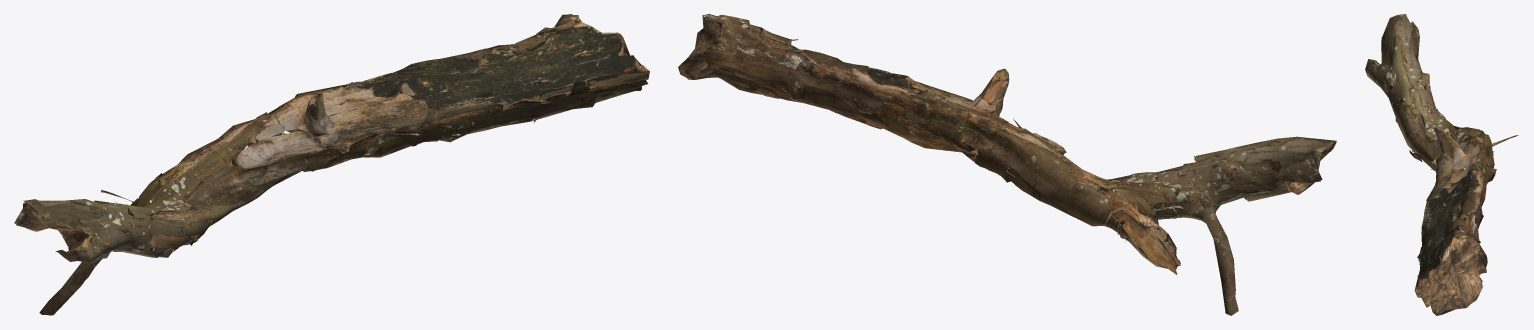
The model's file is dead_tree_trunk_02.fbx.
The picture shows the model from 3 angles, left to right: view 1: azimuth 30°, elevation 25°; view 2: azimuth 150°, elevation 25°; view 3: azimuth 270°, elevation 25°; orthographic projection. The views are drawn at different scales.
Visible parts, largest first — view 1: dead_tree_trunk_02; view 2: dead_tree_trunk_02; view 3: dead_tree_trunk_02.
Part boxes in pixels (x1,y1,x2,y2): dead_tree_trunk_02: (14, 14, 649, 315); dead_tree_trunk_02: (678, 14, 1336, 315); dead_tree_trunk_02: (1365, 14, 1518, 315).
Bounding box in the file's own units: 404 × 105 × 104.
Materials: 1 (1 with a texture image).
